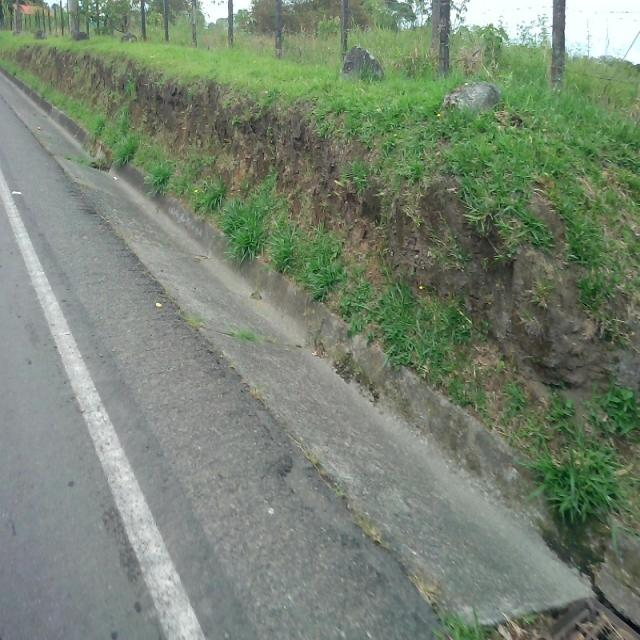DITCH: (1, 43, 638, 638), (2, 62, 636, 638), (1, 124, 638, 638)
